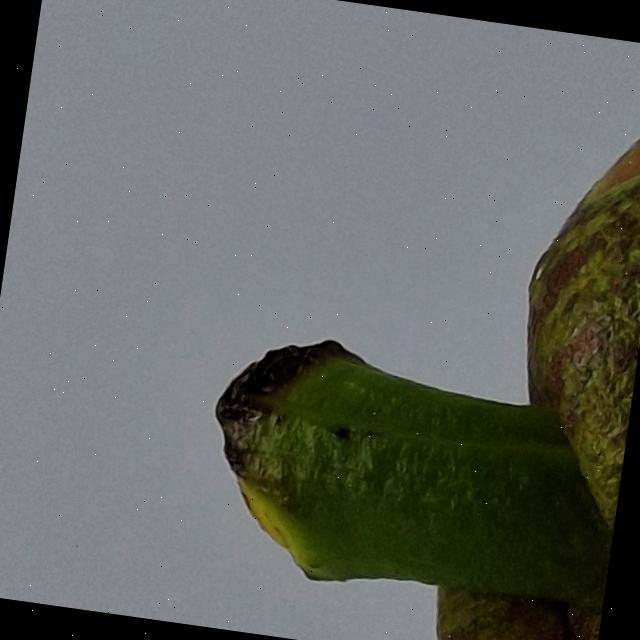mangosteen: (146, 0, 640, 640)
